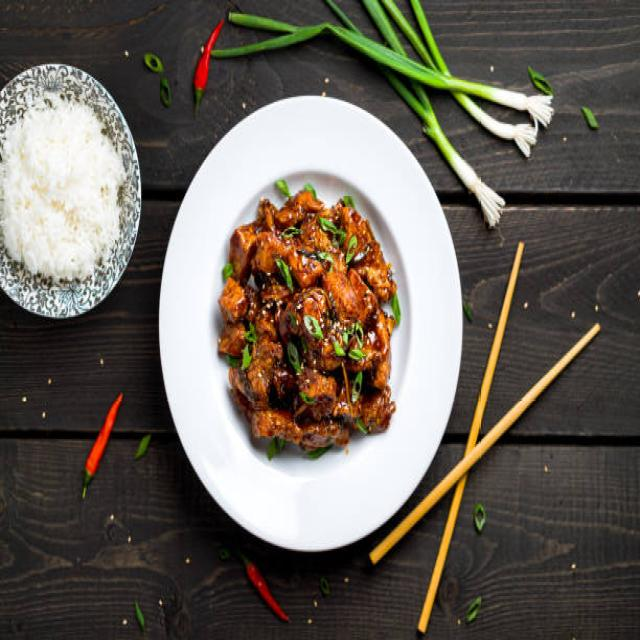Frango: (218, 188, 400, 455)
